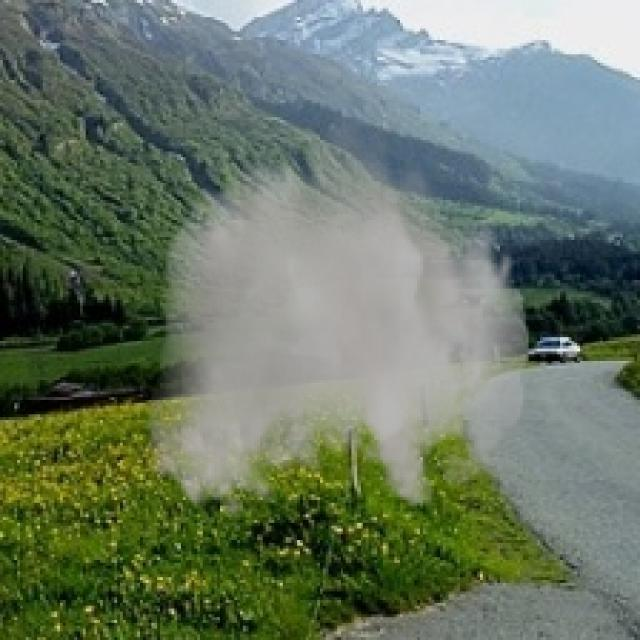Smoke: (146, 106, 528, 520)
